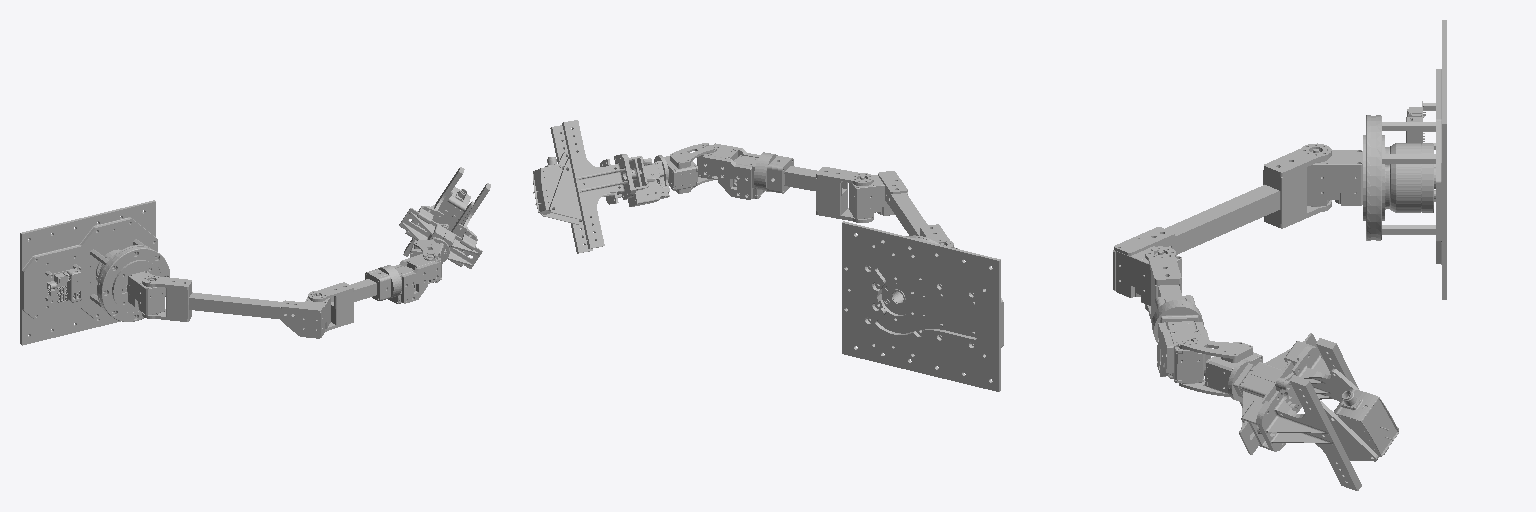
robot.urdf — arm_v20(2).SLDASM:
<?xml version="1.0" encoding="utf-8"?>
<!-- This URDF was automatically created by SolidWorks to URDF Exporter! Originally created by [author] ([email redacted]) 
     Commit Version: 1.6.0-4-g7f85cfe  Build Version: 1.6.7995.38578
     For more information, please see http://wiki.ros.org/sw_urdf_exporter -->
<robot
  name="arm_v20(2).SLDASM">
  <link
    name="base_link">
    
    <visual>
      <origin
        xyz="0 0 0"
        rpy="0 0 0" />
      <geometry>
        <mesh
          filename="package://mizuki_arm_short/meshes/base_link.STL" />
      </geometry>
      <material
        name="">
        <color
          rgba="0.752941176470588 0.752941176470588 0.752941176470588 1" />
      </material>
    </visual>
    <collision>
      <origin
        xyz="0 0 0"
        rpy="0 0 0" />
      <geometry>
        <mesh
          filename="package://mizuki_arm_short/meshes/base_link.STL" />
      </geometry>
    </collision>
  </link>
  <link
    name="2nd_Link">
    <inertial>
      <origin
        xyz="-0.000455989029182479 7.55986125734977E-05 0.0418690827014626"
        rpy="0 0 0" />
      <mass
        value="0.12533427208754" />
      <inertia
        ixx="4.82118907322452E-05"
        ixy="2.96613165389611E-13"
        ixz="1.61883588500157E-07"
        iyy="5.50460256171882E-05"
        iyz="-1.23148266639554E-13"
        izz="5.44258963228014E-05" />
    </inertial>
    <visual>
      <origin
        xyz="0 0 0"
        rpy="0 0 0" />
      <geometry>
        <mesh
          filename="package://mizuki_arm_short/meshes/2nd_Link.STL" />
      </geometry>
      <material
        name="">
        <color
          rgba="0.752941176470588 0.752941176470588 0.752941176470588 1" />
      </material>
    </visual>
    <collision>
      <origin
        xyz="0 0 0"
        rpy="0 0 0" />
      <geometry>
        <mesh
          filename="package://mizuki_arm_short/meshes/2nd_Link.STL" />
      </geometry>
    </collision>
  </link>
  <joint
    name="shoulder_pitch"
    type="revolute">
    <origin
      xyz="0 -0.0525 0"
      rpy="1.5708 1.5708 0" />
    <parent
      link="base_link" />
    <child
      link="2nd_Link" />
    <axis
      xyz="0 0 1" />
    <limit
      lower="0"
      upper="0"
      effort="0"
      velocity="0" />
  </joint>
  <link
    name="3rd_Link">
    <inertial>
      <origin
        xyz="0.129237698497142 -0.00572273688574605 0.111888586613311"
        rpy="0 0 0" />
      <mass
        value="0.17134420758264" />
      <inertia
        ixx="9.32201042100472E-05"
        ixy="1.20120101159129E-07"
        ixz="-4.79777554801424E-05"
        iyy="0.00015433812332318"
        iyz="3.40869890593281E-07"
        izz="9.66568629496689E-05" />
    </inertial>
    <visual>
      <origin
        xyz="0 0 0"
        rpy="0 0 0" />
      <geometry>
        <mesh
          filename="package://mizuki_arm_short/meshes/3rd_Link.STL" />
      </geometry>
      <material
        name="">
        <color
          rgba="0.752941176470588 0.752941176470588 0.752941176470588 1" />
      </material>
    </visual>
    <collision>
      <origin
        xyz="0 0 0"
        rpy="0 0 0" />
      <geometry>
        <mesh
          filename="package://mizuki_arm_short/meshes/3rd_Link.STL" />
      </geometry>
    </collision>
  </link>
  <joint
    name="elbow_joint"
    type="revolute">
    <origin
      xyz="0 0 0.071063"
      rpy="0 0 1.5708" />
    <parent
      link="2nd_Link" />
    <child
      link="3rd_Link" />
    <axis
      xyz="0 1 0" />
    <limit
      lower="0"
      upper="0"
      effort="0"
      velocity="0" />
  </joint>
  <link
    name="forearm_root_Link">
    <inertial>
      <origin
        xyz="-0.103731501655055 -0.0078437541000942 0.222271796715449"
        rpy="0 0 0" />
      <mass
        value="0.0961128055839215" />
      <inertia
        ixx="3.03487640251212E-05"
        ixy="-2.57021413224873E-08"
        ixz="4.31895961727136E-06"
        iyy="2.95052454577111E-05"
        iyz="7.66392616741625E-08"
        izz="1.89188661634729E-05" />
    </inertial>
    <visual>
      <origin
        xyz="0 0 0"
        rpy="0 0 0" />
      <geometry>
        <mesh
          filename="package://mizuki_arm_short/meshes/forearm_root_Link.STL" />
      </geometry>
      <material
        name="">
        <color
          rgba="0.752941176470588 0.752941176470588 0.752941176470588 1" />
      </material>
    </visual>
    <collision>
      <origin
        xyz="0 0 0"
        rpy="0 0 0" />
      <geometry>
        <mesh
          filename="package://mizuki_arm_short/meshes/forearm_root_Link.STL" />
      </geometry>
    </collision>
  </link>
  <joint
    name="forearm_root_joint"
    type="revolute">
    <origin
      xyz="0.03475 0 0.14175"
      rpy="3.1416 1.1223 3.1416" />
    <parent
      link="3rd_Link" />
    <child
      link="forearm_root_Link" />
    <axis
      xyz="0 1 0" />
    <limit
      lower="0"
      upper="0"
      effort="0"
      velocity="0" />
  </joint>
  <link
    name="forearm_tip_link">
    <inertial>
      <origin
        xyz="-0.0515869013927555 -0.164372151390541 -0.125366162766173"
        rpy="0 0 0" />
      <mass
        value="0.129687644289195" />
      <inertia
        ixx="3.10003895485778E-05"
        ixy="-4.82711228636185E-06"
        ixz="3.09461570311233E-06"
        iyy="2.71817249053064E-05"
        iyz="-2.79956975978776E-06"
        izz="3.84415944855356E-05" />
    </inertial>
    <visual>
      <origin
        xyz="0 0 0"
        rpy="0 0 0" />
      <geometry>
        <mesh
          filename="package://mizuki_arm_short/meshes/forearm_tip_link.STL" />
      </geometry>
      <material
        name="">
        <color
          rgba="0.752941176470588 0.752941176470588 0.752941176470588 1" />
      </material>
    </visual>
    <collision>
      <origin
        xyz="0 0 0"
        rpy="0 0 0" />
      <geometry>
        <mesh
          filename="package://mizuki_arm_short/meshes/forearm_tip_link.STL" />
      </geometry>
    </collision>
  </link>
  <joint
    name="forearm_tip_joint"
    type="revolute">
    <origin
      xyz="0 0 0.15213"
      rpy="-1.5708 0 -1.1443" />
    <parent
      link="forearm_root_Link" />
    <child
      link="forearm_tip_link" />
    <axis
      xyz="0 1 0" />
    <limit
      lower="0"
      upper="0"
      effort="0"
      velocity="0" />
  </joint>
  <link
    name="wrist_link">
    <inertial>
      <origin
        xyz="0.408193791744499 -0.0478872299377909 0.0216971781257388"
        rpy="0 0 0" />
      <mass
        value="0.0588876818541705" />
      <inertia
        ixx="1.16965127378391E-05"
        ixy="-1.19071174404654E-06"
        ixz="-5.76057641834992E-07"
        iyy="1.36744432006673E-05"
        iyz="-1.92319703170851E-06"
        izz="9.97941816116039E-06" />
    </inertial>
    <visual>
      <origin
        xyz="0 0 0"
        rpy="0 0 0" />
      <geometry>
        <mesh
          filename="package://mizuki_arm_short/meshes/wrist_link.STL" />
      </geometry>
      <material
        name="">
        <color
          rgba="0.752941176470588 0.752941176470588 0.752941176470588 1" />
      </material>
    </visual>
    <collision>
      <origin
        xyz="0 0 0"
        rpy="0 0 0" />
      <geometry>
        <mesh
          filename="package://mizuki_arm_short/meshes/wrist_link.STL" />
      </geometry>
    </collision>
  </link>
  <joint
    name="wrist_joint"
    type="revolute">
    <origin
      xyz="0 0.063707 -0.3864"
      rpy="0 -0.69813 -1.5708" />
    <parent
      link="forearm_tip_link" />
    <child
      link="wrist_link" />
    <axis
      xyz="0.2869 -0.89975 0.32885" />
    <limit
      lower="0"
      upper="0"
      effort="0"
      velocity="0" />
  </joint>
  <link
    name="hand_link">
    <inertial>
      <origin
        xyz="0.177261148735247 -0.0536834571107898 -0.075041680800671"
        rpy="0 0 0" />
      <mass
        value="0.291454736279853" />
      <inertia
        ixx="0.000132273717354236"
        ixy="-4.60499182381077E-05"
        ixz="-4.95583522597708E-05"
        iyy="0.000202007618517158"
        iyz="-2.30910339378055E-05"
        izz="0.000158531426124786" />
    </inertial>
    <visual>
      <origin
        xyz="0 0 0"
        rpy="0 0 0" />
      <geometry>
        <mesh
          filename="package://mizuki_arm_short/meshes/hand_link.STL" />
      </geometry>
      <material
        name="">
        <color
          rgba="0.752941176470588 0.752941176470588 0.752941176470588 1" />
      </material>
    </visual>
    <collision>
      <origin
        xyz="0 0 0"
        rpy="0 0 0" />
      <geometry>
        <mesh
          filename="package://mizuki_arm_short/meshes/hand_link.STL" />
      </geometry>
    </collision>
  </link>
  <joint
    name="hand_joint"
    type="fixed">
    <origin
      xyz="0.41446 -0.00020011 0.15664"
      rpy="1.3463 0.78525 -0.95801" />
    <parent
      link="wrist_link" />
    <child
      link="hand_link" />
    <axis
      xyz="0 0 0" />
  </joint>
</robot>

--- Render facts (derived) ---
3 views of the same robot in one strip: view 1: azimuth 30°, elevation 25°; view 2: azimuth 150°, elevation 25°; view 3: azimuth 270°, elevation 25° (orthographic).
Model arm_v20(2).SLDASM with 7 links and 6 joints (5 revolute, 1 fixed), rooted at base_link, posed all joints at 0.
Visible links, largest first — view 1: base_link, 3rd_Link, hand_link, forearm_root_Link, 2nd_Link, forearm_tip_link, wrist_link; view 2: base_link, hand_link, forearm_root_Link, 3rd_Link, forearm_tip_link, wrist_link; view 3: hand_link, base_link, 3rd_Link, 2nd_Link, forearm_tip_link, wrist_link, forearm_root_Link.
Boxes of the visible links, x1,y1,x2,y2 form: base_link: [20, 200, 169, 345]; 3rd_Link: [142, 275, 330, 338]; hand_link: [399, 167, 490, 268]; forearm_root_Link: [308, 266, 398, 331]; 2nd_Link: [112, 260, 164, 315]; forearm_tip_link: [387, 254, 441, 303]; wrist_link: [410, 239, 449, 282]; base_link: [842, 221, 1003, 391]; hand_link: [533, 120, 669, 253]; forearm_root_Link: [758, 153, 873, 222]; 3rd_Link: [849, 171, 953, 247]; forearm_tip_link: [697, 143, 766, 199]; wrist_link: [660, 143, 713, 193]; hand_link: [1229, 333, 1398, 490]; base_link: [1366, 20, 1446, 299]; 3rd_Link: [1113, 143, 1331, 305]; 2nd_Link: [1307, 135, 1389, 220]; forearm_tip_link: [1153, 304, 1210, 383]; wrist_link: [1179, 337, 1262, 399]; forearm_root_Link: [1145, 246, 1201, 333].
Bounding box of the posed robot: 0.7438 × 0.32 × 0.186 m (x, y, z).
7 mesh visuals loaded from 7 distinct referenced files (7 binary STL).
